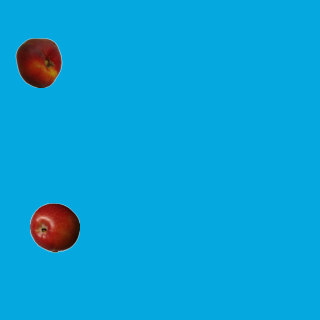Apple Braeburn: (29, 202, 79, 252)
Nectarine Flat: (13, 37, 63, 87)
